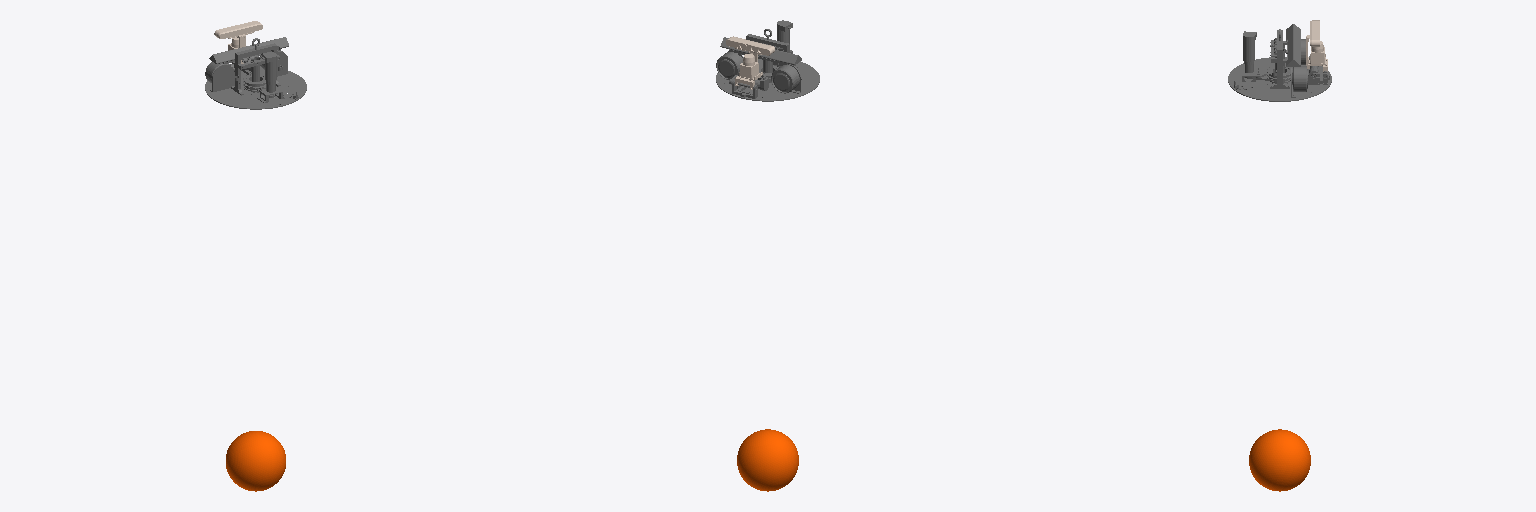
The robot description file, URDF, robot "ballbot":
<?xml version="1.0" encoding="utf-8"?>
<!-- =================================================================================== -->
<!-- |    This document was autogenerated by xacro from ballbot_plus_fixedbase.urdf.xacro | -->
<!-- |    EDITING THIS FILE BY HAND IS NOT RECOMMENDED                                 | -->
<!-- =================================================================================== -->
<!-- Overview: Ballbot Plus (ballbot + 2x7DOF arms) reprsented as a floating base system -->
<robot name="ballbot">
  <!-- CAD -->
  <material name="black">
    <color rgba="0.0 0.0 0.0 1.0"/>
  </material>

  <material name="cian">
    <color rgba="0.0 0.8 0.8 1.0"/>
  </material>

  <material name="blue">
    <color rgba="0.0 0.0 0.8 1.0"/>
  </material>
  <material name="green">
    <color rgba="0.0 0.8 0.0 1.0"/>
  </material>
  <material name="dark_grey">
    <color rgba="0.2 0.2 0.2 1.0"/>
  </material>
  <material name="grey">
    <color rgba="0.5 0.5 0.5 1.0"/>
  </material>
  <material name="light_grey">
    <color rgba="0.8 0.8 0.8 1.0"/>
  </material>
  <material name="orange">
    <color rgba="1.0 0.423529411765 0.0392156862745 1.0"/>
  </material>
  <material name="brown">
    <color rgba="0.870588235294 0.811764705882 0.764705882353 1.0"/>
  </material>
  <material name="white">
    <color rgba="1.0 1.0 1.0 1.0"/>
  </material>
  <material name="yellow">
    <color rgba="0.8 0.68 0.0 1.0"/>
  </material>
  <material name="red">
    <color rgba="1.0 0.0 0.0 1"/>
  </material>
  <material name="aluminum">
    <color rgba="0.5 0.5 0.5 1"/>
  </material>
  <!-- Use of macros to assemble the robot -->
  <!-- ====================================== -->
  <!-- Used for fixing robot to Gazebo 'base_link' -->
  <link name="base_link"/>
  <link name="Link_Xtran">
    <inertial>
      <origin xyz="0.00000 0.00000 0.00000"/>
      <mass value="0.00001"/>
      <inertia ixx="0.0000001" ixy="0.0" ixz="0.0" iyy="0.0000001" iyz="0.0" izz="0.0000001"/>
    </inertial>
  </link>
  <link name="Link_Ytran">
    <inertial>
      <origin xyz="0.00000 0.00000 0.00000"/>
      <mass value="0.00001"/>
      <inertia ixx="0.0000001" ixy="0.0" ixz="0.0" iyy="0.0000001" iyz="0.0" izz="0.0000001"/>
    </inertial>
  </link>
  <link name="Link_Ball">
    <visual>
      <origin rpy="0.0 0.0 0.0" xyz="0.0 0.0 0.0"/>
      <geometry>
        <mesh filename="package://ballbot_arm_description/meshes/v2020/ball.stl"/>
      </geometry>
      <material name="orange"/>
    </visual>
    <collision>
      <origin rpy="0 0 0" xyz="0 0 0"/>
      <geometry>
        <mesh filename="package://ballbot_arm_description/meshes/v2020/ball.stl"/>
      </geometry>
    </collision>
    <inertial>
      <origin xyz="0.0 0.0 0.0"/>
      <mass value="2.72"/>
      <inertia ixx="0.01220" ixy="0.00000" ixz="0.00000" iyy="0.01220" iyz="0.00000" izz="0.01220"/>
    </inertial>
  </link>
  <link name="Link_Pitch">
    <inertial>
      <origin xyz="0.00000 0.00000 0.00000"/>
      <mass value="0.00001"/>
      <inertia ixx="0.0000001" ixy="0.0" ixz="0.0" iyy="0.0000001" iyz="0.0" izz="0.0000001"/>
    </inertial>
  </link>
  <link name="Link_Roll">
    <inertial>
      <origin xyz="0.00000 0.00000 0.00000"/>
      <mass value="0.00001"/>
      <inertia ixx="0.0000001" ixy="0.0" ixz="0.0" iyy="0.0000001" iyz="0.0" izz="0.0000001"/>
    </inertial>
  </link>
  <link name="Link_Yaw">
    <inertial>
      <origin xyz="0.00000 0.00000 0.00000"/>
      <mass value="0.00001"/>
      <inertia ixx="0.0000001" ixy="0.0" ixz="0.0" iyy="0.0000001" iyz="0.0" izz="0.0000001"/>
    </inertial>
  </link>
  <!-- Joints -->
  <joint name="Joint_World_Xtran" type="prismatic">
    <origin rpy="0.0 0.0 0.0" xyz="0.0 0. 0.0"/>
    <parent link="base_link"/>
    <child link="Link_Xtran"/>
    <limit effort="30" lower="-10" upper="10" velocity="1.0"/>
    <axis xyz="0 -1 0"/>
  </joint>
  <joint name="Joint_World_Ytran" type="prismatic">
    <origin rpy="0.0 0.0 0.0" xyz="0.0 0.0 0.0"/>
    <parent link="Link_Xtran"/>
    <child link="Link_Ytran"/>
    <limit effort="30" lower="-10" upper="10" velocity="1.0"/>
    <axis xyz="1 0 0"/>
  </joint>
  <joint name="Joint_World_Ball" type="fixed">
    <origin rpy="0.0 0.0 0.0" xyz="0.0 0.0 0.105838"/>
    <parent link="Link_Ytran"/>
    <child link="Link_Ball"/>
    <axis xyz="0 0 1"/>
  </joint>
  <joint name="xAngle" type="revolute">
    <origin rpy="0.0 0.0 0.0" xyz="0.0 0.0 0.0"/>
    <parent link="Link_Ball"/>
    <child link="Link_Pitch"/>
    <limit effort="30" lower="-0.349065850399" upper="0.349065850399" velocity="1.0"/>
    <axis xyz="1 0 0"/>
  </joint>
  <joint name="yAngle" type="revolute">
    <origin rpy="0.0 0.0 0.0" xyz="0.00000 0.00000 0.00000"/>
    <parent link="Link_Pitch"/>
    <child link="Link_Roll"/>
    <limit effort="30" lower="-0.349065850399" upper="0.349065850399" velocity="1.0"/>
    <axis xyz="0 1 0"/>
  </joint>
  <joint name="yaw" type="revolute">
    <origin rpy="0.0 0.0 0.0" xyz="0.00000 0.00000 0.0"/>
    <parent link="Link_Roll"/>
    <child link="Link_Yaw"/>
    <limit effort="30" lower="-3.14159265359" upper="3.14159265359" velocity="1.0"/>
    <axis xyz="0 0 1"/>
  </joint>
  <joint name="JBalltoBody" type="fixed">
    <origin rpy="0.0 0.0 1.5707963268" xyz="0.0 0.0 0.762"/>
    <parent link="Link_Yaw"/>
    <child link="Link_Body"/>
    <limit effort="30" velocity="1.0"/>
    <axis xyz="0 0 1"/>
  </joint>
  <link name="Link_Body">
    <inertial>
      <origin xyz="0.015 0.0005 -0.015"/>
      <mass value="64.86"/>
      <inertia ixx="10.61648" ixy="0.00000" ixz="0.00000" iyy="10.61648" iyz="0.00000" izz="0.66440"/>
    </inertial>
    <visual>
      <origin rpy="0 0 0" xyz="0 0 -0.762"/>
      <geometry>
        <mesh filename="package://ballbot_arm_description/meshes/v2020/ballbot_body_v2021.stl"/>
      </geometry>
      <material name="yellow"/>
    </visual>
    <collision>
      <origin rpy="0 0 0" xyz="0 0 -0.0595"/>
      <geometry>
        <cylinder length="1.105" radius="0.184"/>
      </geometry>
    </collision>
  </link>
  <joint name="turret_pan" type="fixed">
    <origin rpy="0 0 0" xyz="0 0 0.656162"/>
    <parent link="Link_Body"/>
    <child link="turret_plate_link"/>
    <limit effort="1000." lower="-6.1" upper="6.1" velocity="1.0"/>
    <axis xyz="0 0 1"/>
    <dynamics damping="1.0" friction="1.0"/>
  </joint>
  <link name="turret_plate_link">
    <visual>
      <origin rpy="0 0 0" xyz="0.0 0.0 0.0"/>
      <geometry>
        <mesh filename="package://ballbot_arm_description/meshes/v2020/turret_pan.stl"/>
      </geometry>
      <material name="grey"/>
    </visual>
    <inertial>
      <origin xyz="0.0 0.0 0.0"/>
      <mass value="0.0"/>
      <inertia ixx="0.0" ixy="0.00000" ixz="0.00000" iyy="0.0" iyz="0.00000" izz="0.0"/>
    </inertial>
  </link>
  <joint name="turret_tilt" type="fixed">
    <origin rpy="1.5707963268 0 3.14159265359" xyz="0.15557 -0.0347980 0.0541020"/>
    <parent link="turret_plate_link"/>
    <child link="turret_tilt_link"/>
    <limit effort="1000.0" lower="-0.05" upper="1.5707963268" velocity="1.0"/>
    <axis xyz="0 0 1"/>
    <dynamics damping="1.0" friction="1.0"/>
  </joint>
  <link name="turret_tilt_link">
    <visual>
      <origin rpy="0 0 0" xyz="0.0 0.0 0.0"/>
      <geometry>
        <mesh filename="package://ballbot_arm_description/meshes/v2020/turret_tilt.stl"/>
      </geometry>
      <material name="brown"/>
    </visual>
    <inertial>
      <origin xyz="0.0 0.0 0.0"/>
      <mass value="0.0"/>
      <inertia ixx="0.0" ixy="0.00000" ixz="0.00000" iyy="0.0" iyz="0.00000" izz="0.0"/>
    </inertial>
  </link>
  <!-- ====================================== -->
</robot>

--- Facts derived from the render (not from the file) ---
Views: 3 orthographic renders of the robot side by side, from view 1: azimuth 30°, elevation 25°; view 2: azimuth 150°, elevation 25°; view 3: azimuth 270°, elevation 25°.
Robot: ballbot — 10 links, 9 joints (3 revolute, 2 prismatic, 4 fixed); root link base_link; default pose: every joint at zero.
Links seen in each view (by area): view 1: turret_plate_link, Link_Ball, turret_tilt_link; view 2: turret_plate_link, Link_Ball, turret_tilt_link; view 3: turret_plate_link, Link_Ball, turret_tilt_link.
Boxes of the visible links, x1,y1,x2,y2 form: turret_plate_link: [205, 37, 306, 109]; Link_Ball: [226, 431, 285, 491]; turret_tilt_link: [214, 21, 262, 63]; turret_plate_link: [716, 20, 819, 101]; Link_Ball: [737, 429, 798, 491]; turret_tilt_link: [726, 36, 774, 89]; turret_plate_link: [1228, 24, 1331, 101]; Link_Ball: [1249, 429, 1310, 491]; turret_tilt_link: [1306, 20, 1327, 71].
Size in the robot's own frame: 0.3556 by 0.3556 by 1.73 metres.
3 mesh visuals loaded from 4 distinct referenced files (3 binary STL); not drawn: 1 (reference not matched to a file when rendering).
